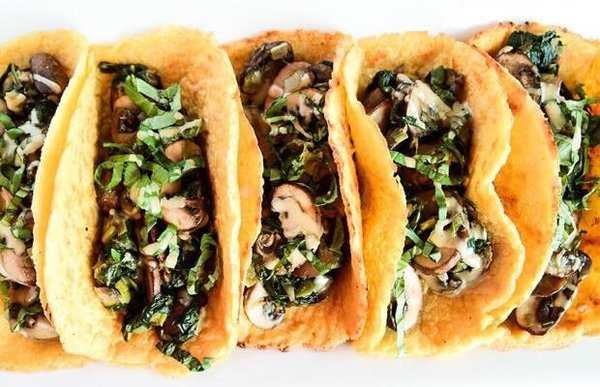sandwich: (468, 20, 599, 357), (0, 26, 90, 356)
